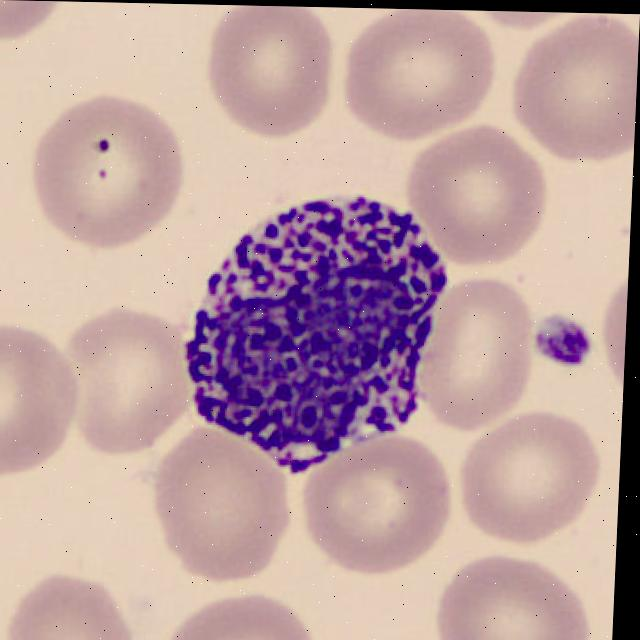basophil: (177, 194, 468, 459)
platelets: (531, 303, 608, 379)
rbc: (309, 431, 453, 603), (457, 407, 618, 555), (497, 15, 640, 180), (149, 445, 297, 604), (58, 308, 199, 474), (345, 8, 493, 148), (41, 108, 192, 245), (206, 5, 331, 145), (415, 136, 552, 244), (0, 311, 81, 493), (425, 565, 594, 640), (2, 572, 141, 640), (154, 597, 323, 640), (601, 272, 629, 396), (0, 0, 58, 45)
